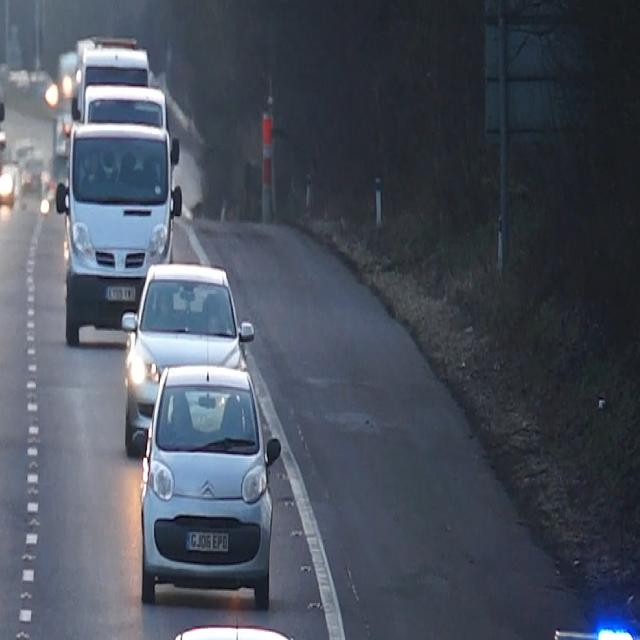Autre: (185, 529, 230, 553)
